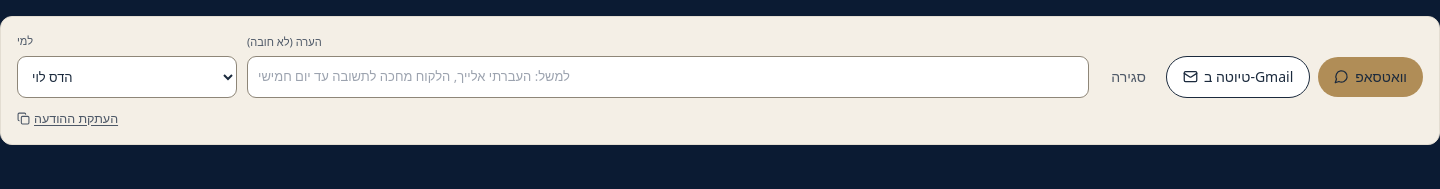
it: TaskShare › copies the whole message and confirms it
The width and height of the screenshot is (1440, 189).
Click the button with test id "task-share-copy". click: (68, 119)
box: 17,110 -> 118,128
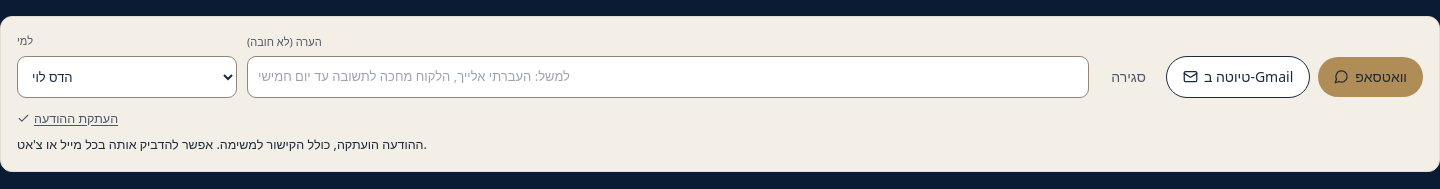
Expected: the text "ההודעה הועתקה, כולל הקישור למשימה. אפשר להדביק אותה בכל מייל או צ'אט." is shown, 17,136 -> 427,153
